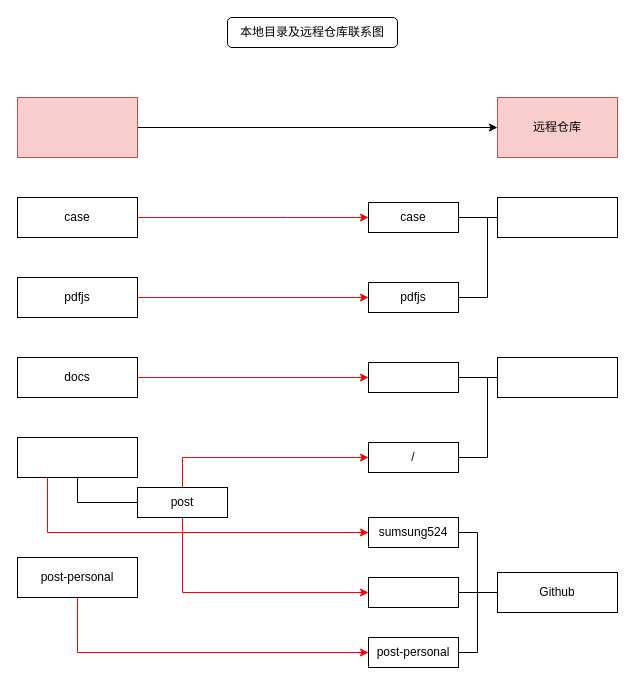
The diagram is 635 pixels wide and 685 high, and some of its shapes have lost their labels. Here are the shapes that lost their labels. From the top down, the centre of each, then its label:
the point at 77,127: 本地目录
the point at 557,217: Gitee
the point at 413,377: /docs
the point at 557,377: Cloudbase
the point at 77,457: matery
the point at 413,592: blog-post
